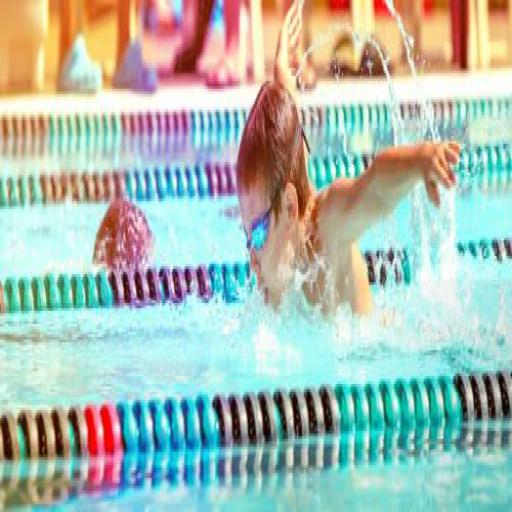swimming: (233, 76, 462, 326)
